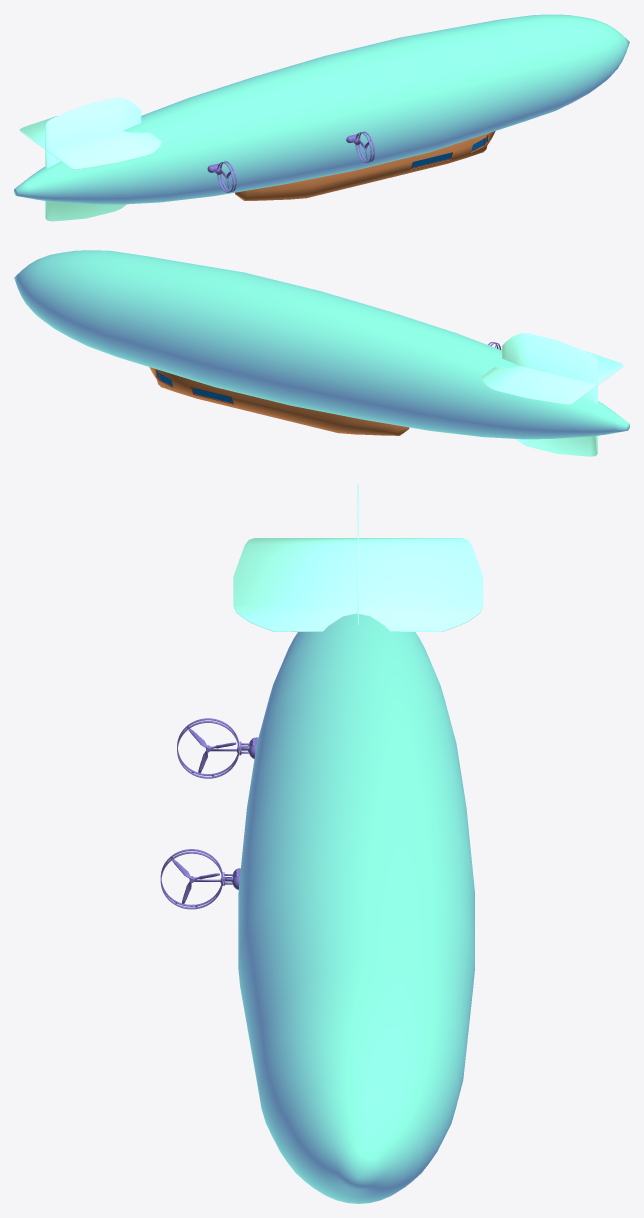
The model's file is дирежабль.fbx.
3 views of the same model, one above another, from view 1: azimuth 30°, elevation 25°; view 2: azimuth 150°, elevation 25°; view 3: azimuth 270°, elevation 25° (orthographic). The views are drawn at different scales.
Parts seen in each view (by area): view 1: Zeppelin, Zeppelin.002, Zeppelin.003, Zeppelin.001, Zeppelin.004; view 2: Zeppelin, Zeppelin.002, Zeppelin.003, Zeppelin.004; view 3: Zeppelin, Zeppelin.002, Zeppelin.001.
Boxes of the visible parts, bbox=[...] form: Zeppelin: bbox=[14, 14, 629, 204]; Zeppelin.002: bbox=[19, 97, 161, 221]; Zeppelin.003: bbox=[235, 131, 495, 200]; Zeppelin.001: bbox=[207, 131, 374, 192]; Zeppelin.004: bbox=[412, 136, 487, 167]; Zeppelin: bbox=[14, 250, 629, 439]; Zeppelin.002: bbox=[481, 333, 623, 456]; Zeppelin.003: bbox=[149, 367, 409, 435]; Zeppelin.004: bbox=[157, 371, 232, 403]; Zeppelin: bbox=[238, 613, 474, 1203]; Zeppelin.002: bbox=[233, 485, 483, 631]; Zeppelin.001: bbox=[160, 718, 258, 909].
Size of the model in its own units: 1295 by 288 by 295.
